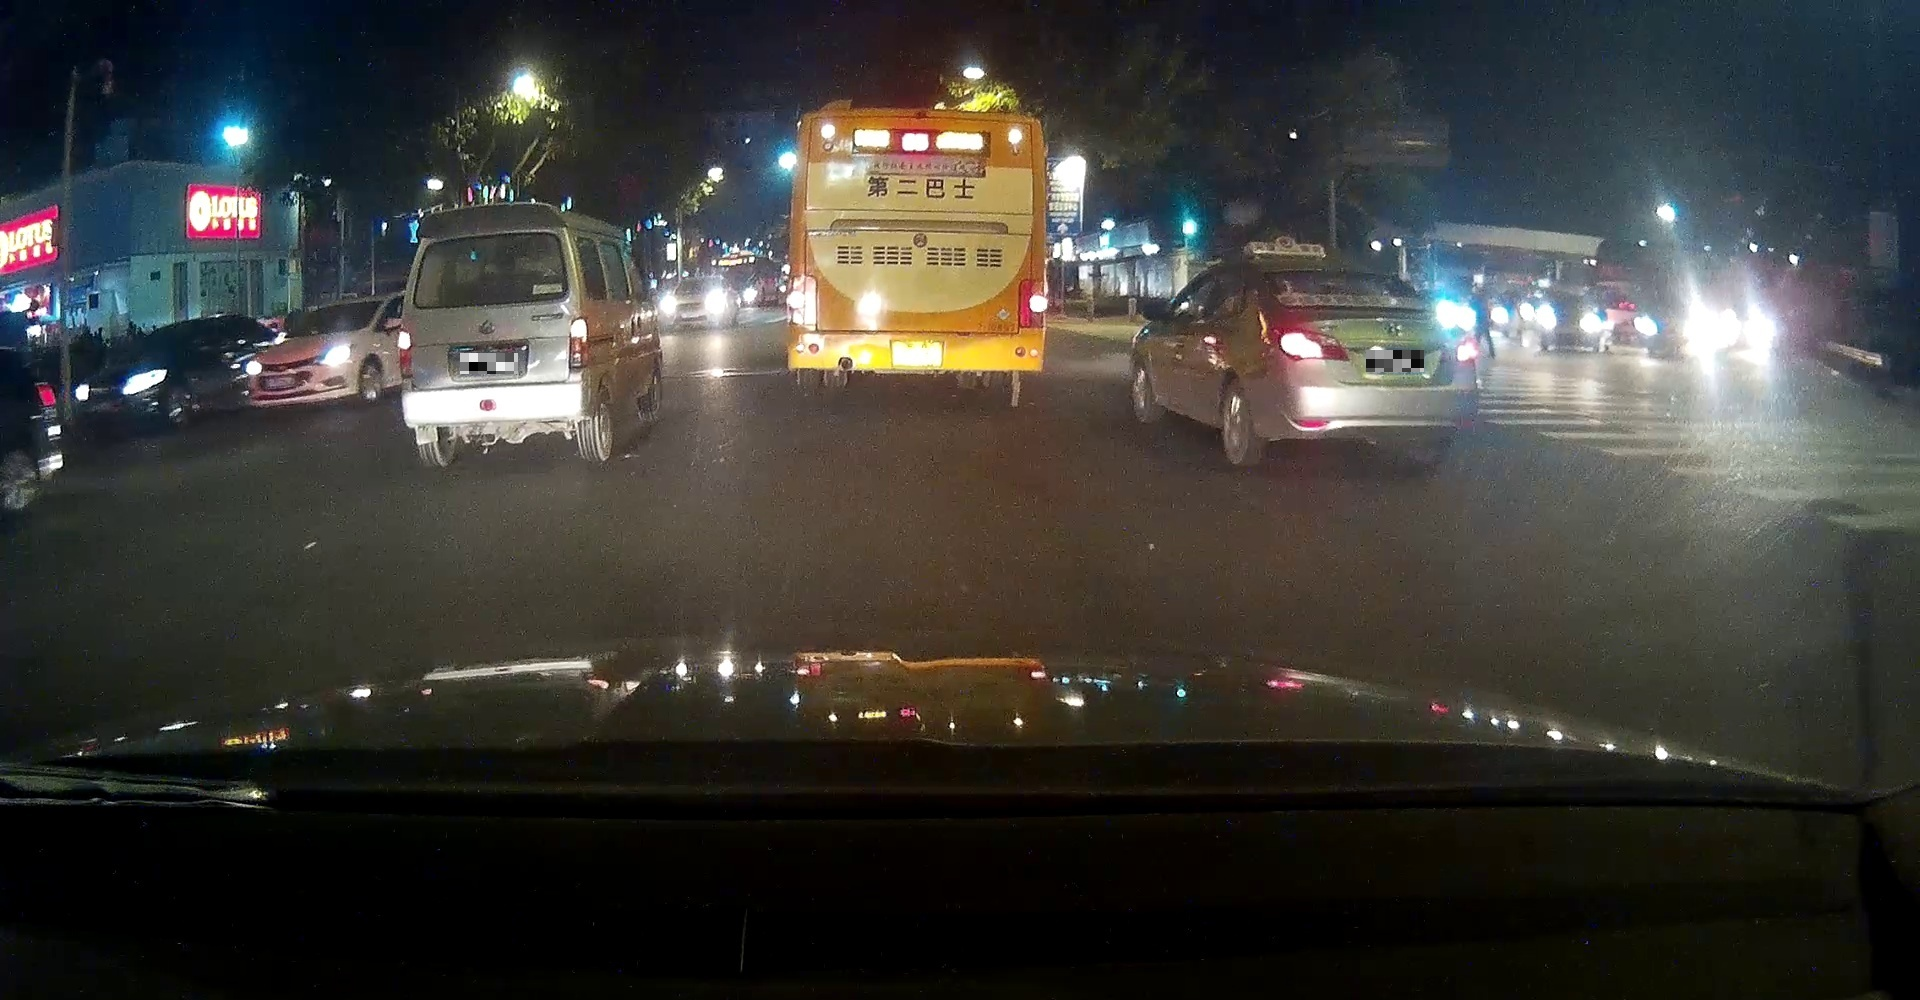L_light: (1272, 325, 1350, 360), (789, 274, 817, 325), (397, 330, 413, 379)
R_light: (1018, 279, 1046, 327), (569, 317, 588, 369), (1455, 335, 1478, 360)
T_light: (903, 117, 937, 127), (1342, 272, 1371, 280), (469, 236, 497, 242)
night-no: (786, 107, 1048, 390), (397, 202, 594, 467), (1258, 253, 1481, 467)
plate_1: (460, 353, 518, 374)
plate_2: (1366, 350, 1423, 372)
